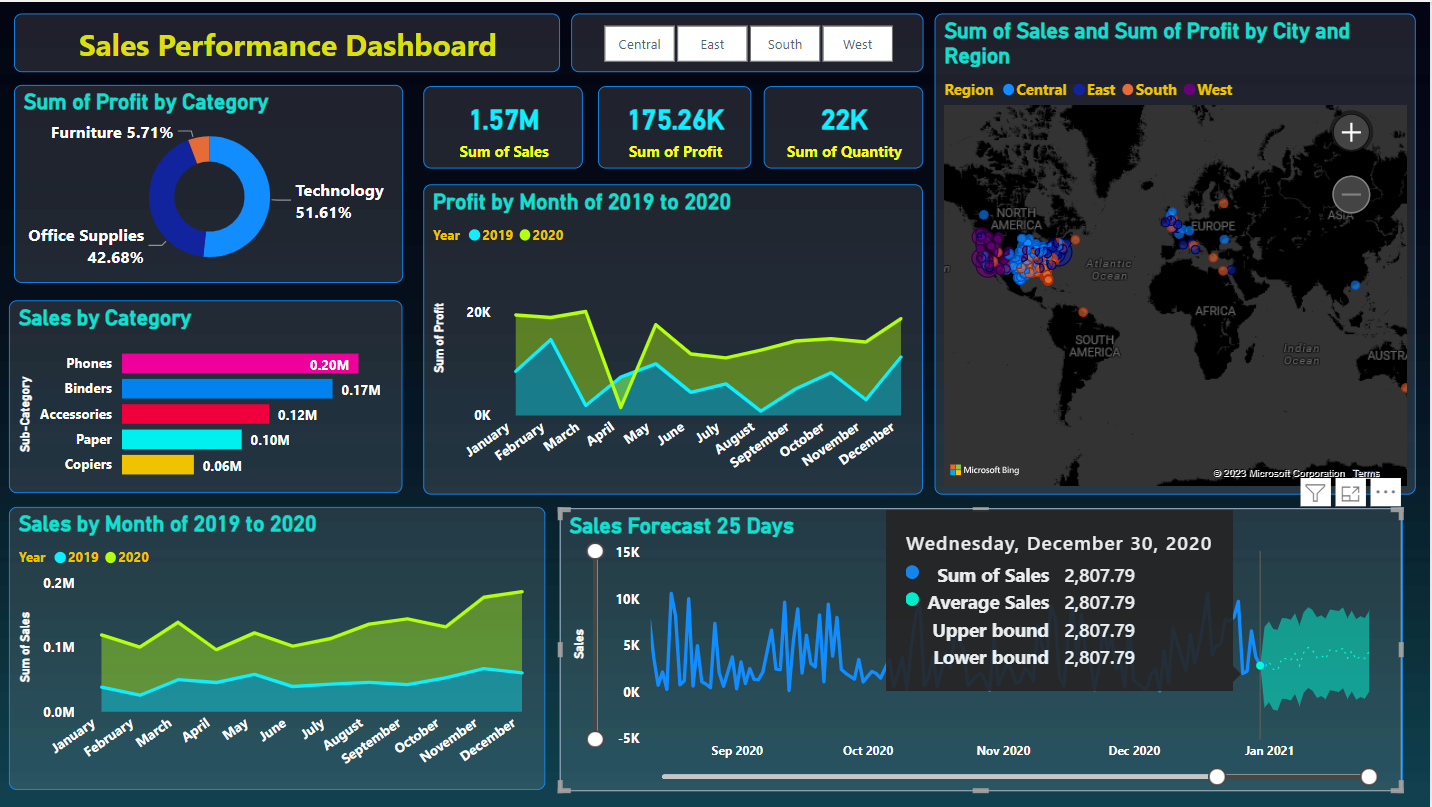

This screenshot's page, from the dashboard's own definition file:
{"tool":"powerbi","page":{"name":"Page 1","canvas":[1280,720],"ordinal":0},"visuals":[{"type":"clusteredBarChart","title":"Sales by Category","fields":{"Category":["SuperStore_Sales_Dataset.Sub-Category"],"Y":["Sum(SuperStore_Sales_Dataset.Sales)"]},"box":[8.5,267.5,352.4,172.7],"z":0},{"type":"stackedAreaChart","title":"Profit by Month of 2019 to 2020","fields":{"Category":["SuperStore_Sales_Dataset.Order Date.Variation.Date Hierarchy.Month","SuperStore_Sales_Dataset.Order Date.Variation.Date Hierarchy.Day"],"Series":["SuperStore_Sales_Dataset.Order Date.Variation.Date Hierarchy.Year"],"Y":["Sum(SuperStore_Sales_Dataset.Profit)"]},"box":[379.3,162.8,447.3,277.4],"z":1000},{"type":"stackedAreaChart","title":"Sales by Month of 2019 to 2020","fields":{"Category":["SuperStore_Sales_Dataset.Order Date.Variation.Date Hierarchy.Month","SuperStore_Sales_Dataset.Order Date.Variation.Date Hierarchy.Day"],"Series":["SuperStore_Sales_Dataset.Order Date.Variation.Date Hierarchy.Year"],"Y":["Sum(SuperStore_Sales_Dataset.Sales)"]},"box":[8.5,451.5,479.8,253.4],"z":2000},{"type":"map","fields":{"Category":["SuperStore_Sales_Dataset.City"],"Size":["Sum(SuperStore_Sales_Dataset.Sales)"],"Series":["SuperStore_Sales_Dataset.Region"]},"box":[836.5,9.9,430.3,430.3],"z":3000},{"type":"donutChart","fields":{"Y":["Sum(SuperStore_Sales_Dataset.Profit)"],"Category":["SuperStore_Sales_Dataset.Category"]},"box":[12.7,73.6,348.2,176.9],"z":4000},{"type":"textbox","box":[12.7,9.9,488.3,52.4],"z":5000},{"type":"slicer","fields":{"Values":["SuperStore_Sales_Dataset.Region"]},"box":[511,9.9,315.6,52.4],"z":6000},{"type":"card","fields":{"Values":["Sum(SuperStore_Sales_Dataset.Sales)"]},"box":[379.3,75,143,73.6],"z":7000},{"type":"card","fields":{"Values":["Sum(SuperStore_Sales_Dataset.Profit)"]},"box":[535,75,137.3,73.6],"z":8000},{"type":"card","fields":{"Values":["Sum(SuperStore_Sales_Dataset.Quantity)"]},"box":[683.7,75,143,73.6],"z":9000},{"type":"lineChart","title":"Sales Forecast 25 Days","fields":{"Category":["SuperStore_Sales_Dataset.Order Date"],"Y":["Sum(SuperStore_Sales_Dataset.Sales)"]},"box":[500.9,451.8,765.6,253.3],"z":10000}]}

Visuals, with their boxes in screenshot pixels (x1, y1, x2, y2), scaled from the page's 1280x720 canvas onto the 1432x807 screenshot:
"Sales by Category" clusteredBarChart: rect(10, 300, 404, 493)
"Profit by Month of 2019 to 2020" stackedAreaChart: rect(424, 182, 925, 493)
"Sales by Month of 2019 to 2020" stackedAreaChart: rect(10, 506, 546, 790)
map - SuperStore_Sales_Dataset.City x Sum(SuperStore_Sales_Dataset.Sales): rect(936, 11, 1417, 493)
donutChart - Sum(SuperStore_Sales_Dataset.Profit) x SuperStore_Sales_Dataset.Category: rect(14, 82, 404, 281)
textbox: rect(14, 11, 560, 70)
slicer - SuperStore_Sales_Dataset.Region: rect(572, 11, 925, 70)
card - Sum(SuperStore_Sales_Dataset.Sales): rect(424, 84, 584, 167)
card - Sum(SuperStore_Sales_Dataset.Profit): rect(599, 84, 752, 167)
card - Sum(SuperStore_Sales_Dataset.Quantity): rect(765, 84, 925, 167)
"Sales Forecast 25 Days" lineChart: rect(560, 506, 1417, 790)
